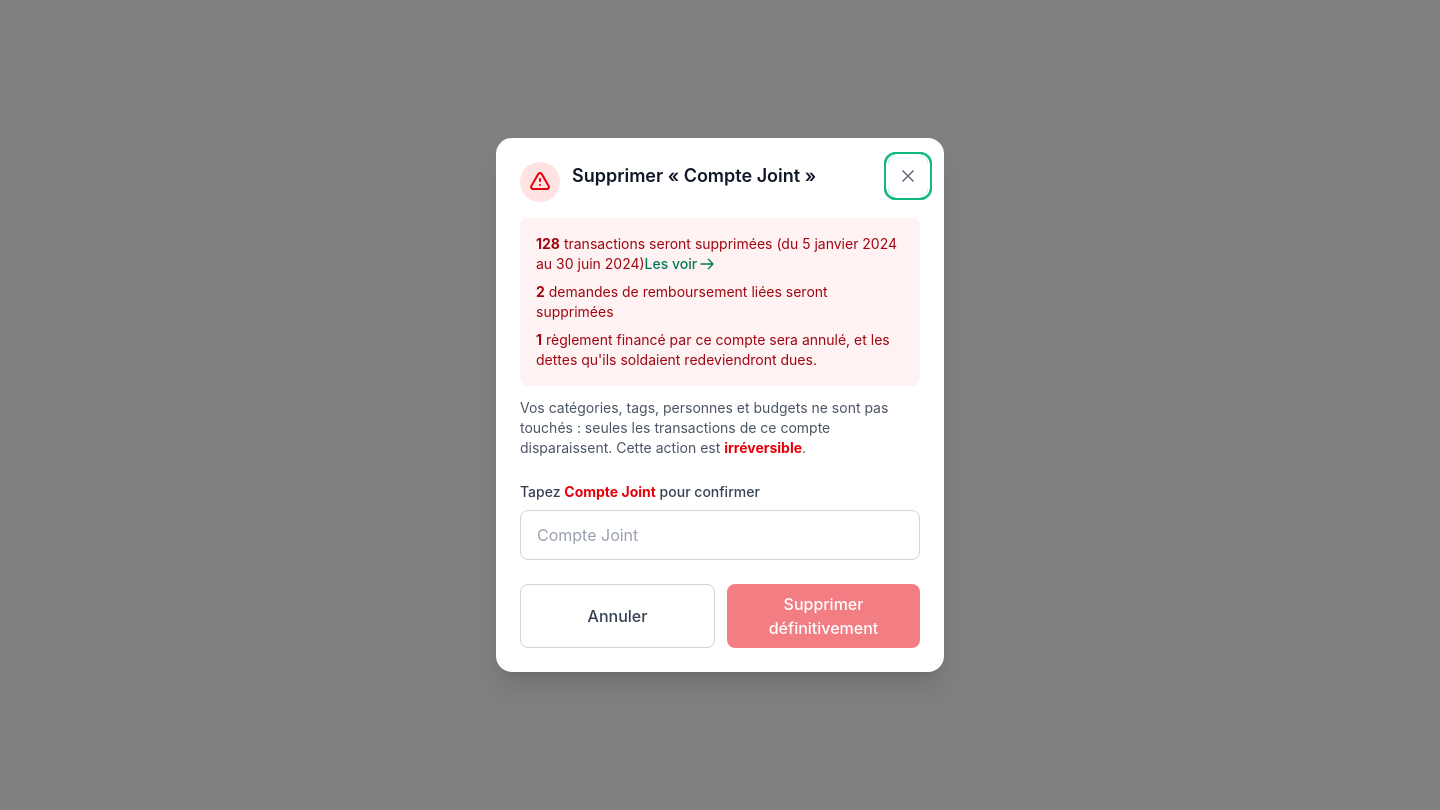
Test: DeleteBankAccountModal › keeps the delete button locked until the account name is typed back
This screenshot has width=1440, height=810.
Check: the button with test id "confirm-delete-account" is disabled, box [727,584,920,648]
Type "Compte" into the field with test id "delete-bank-account-confirmation" at (720, 535), box [520,510,920,560]
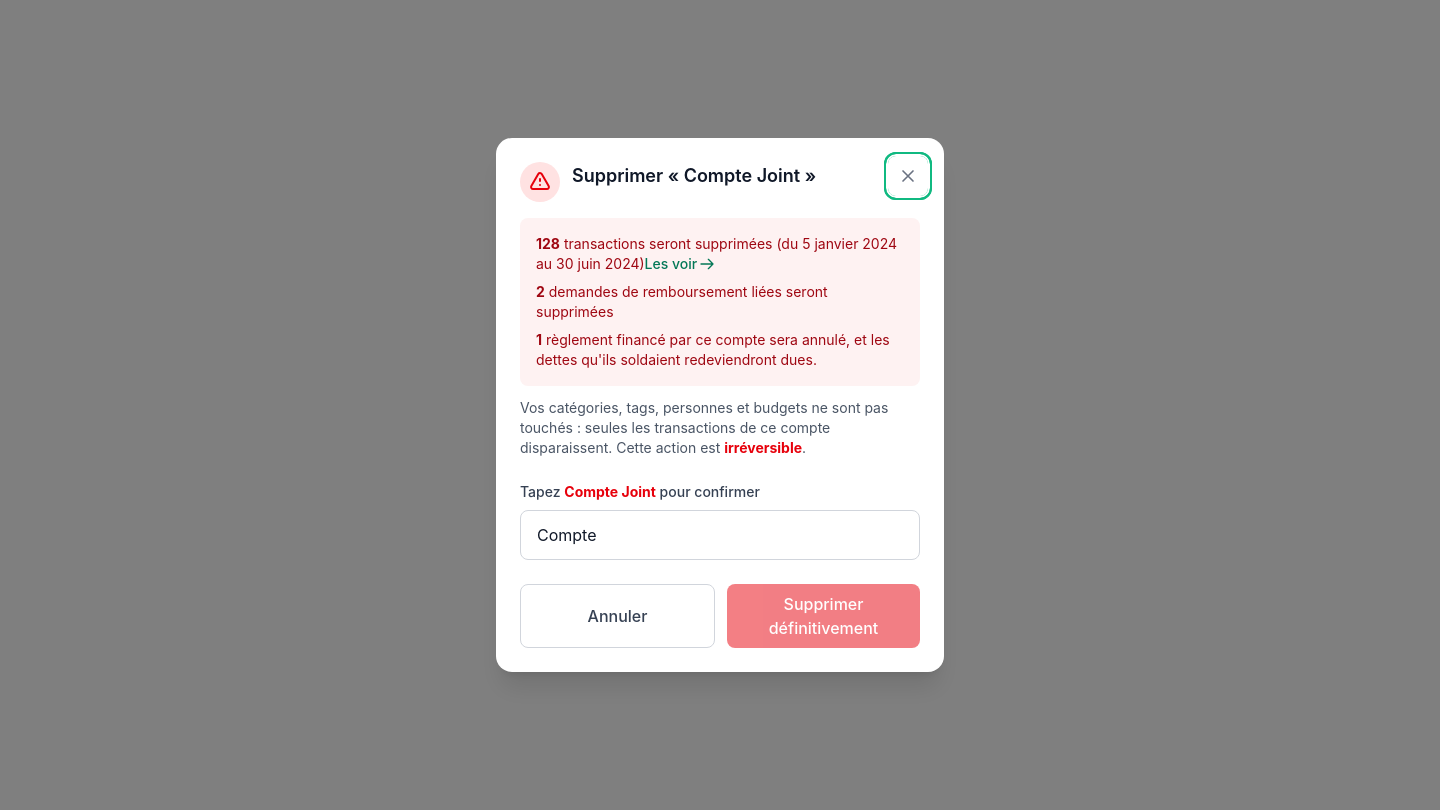
Check: the button with test id "confirm-delete-account" is disabled, box [727,584,920,648]
Replace the text in the field with test id "delete-bank-account-confirmation" with "  compte joint  " at (720, 535), box [520,510,920,560]
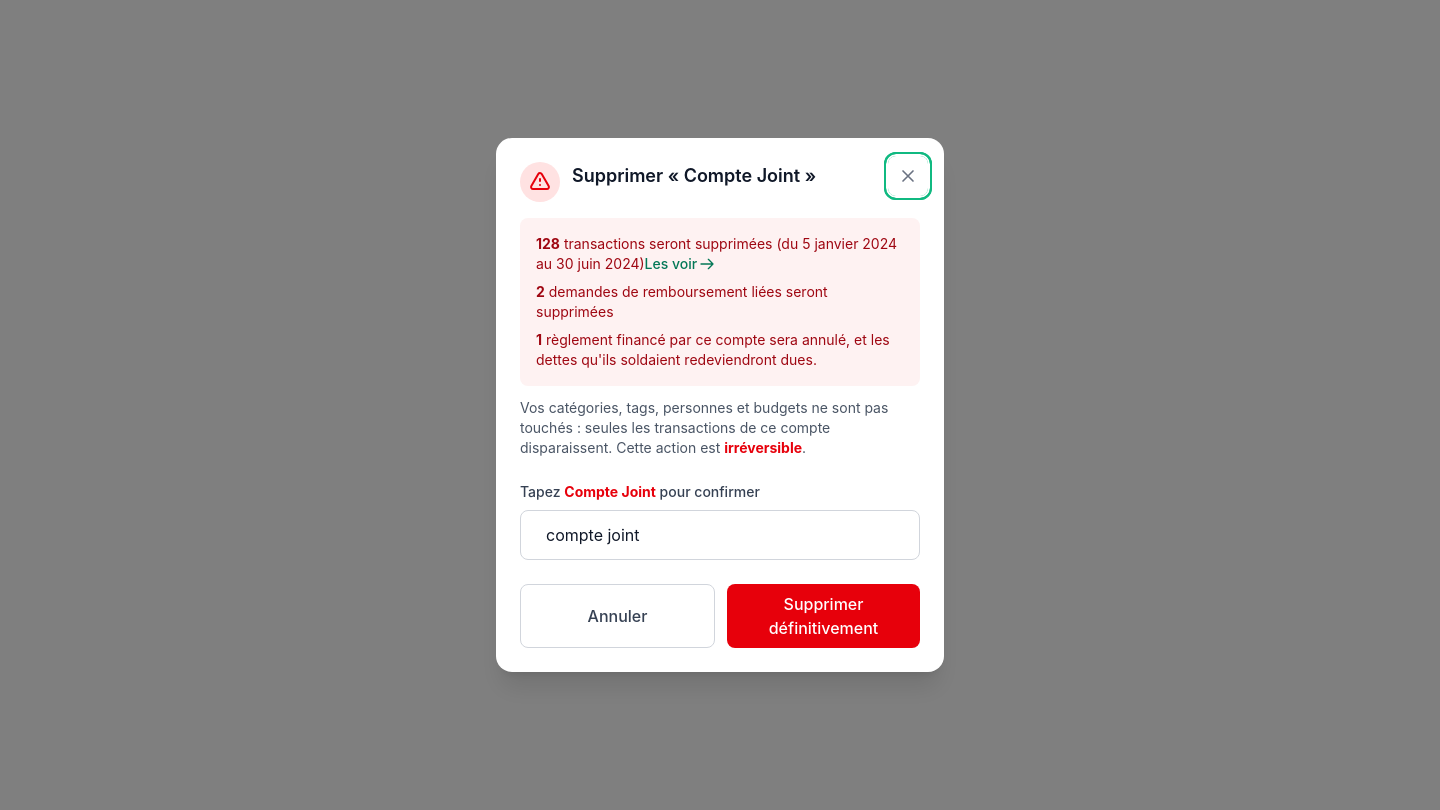
Check: the button with test id "confirm-delete-account" is enabled, box [727,584,920,648]
